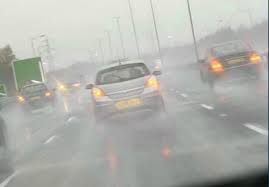car: (92, 58, 161, 114), (198, 42, 263, 88), (17, 83, 56, 112), (59, 77, 83, 94)
truck: (11, 59, 47, 96)
